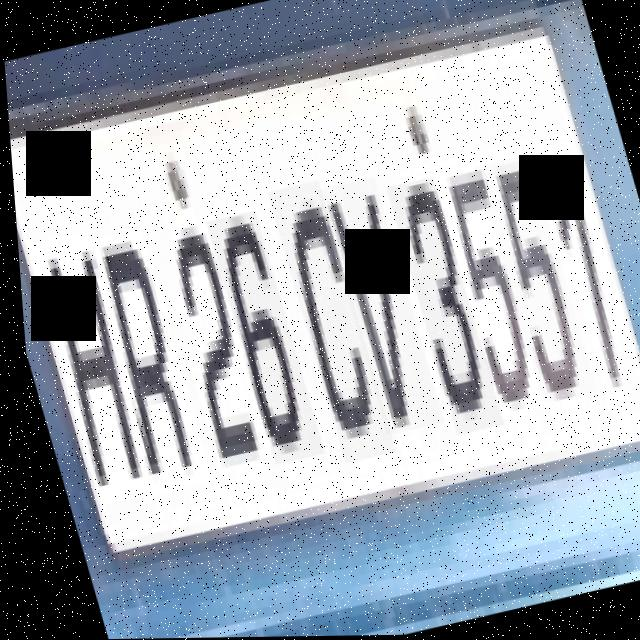1: (524, 137, 636, 414)
3: (382, 177, 498, 436)
5: (428, 164, 545, 419), (472, 155, 590, 405)
6: (201, 210, 318, 465)
C: (263, 180, 390, 465)
H: (22, 229, 155, 506)
R: (84, 228, 207, 494)
V: (313, 177, 438, 437)
